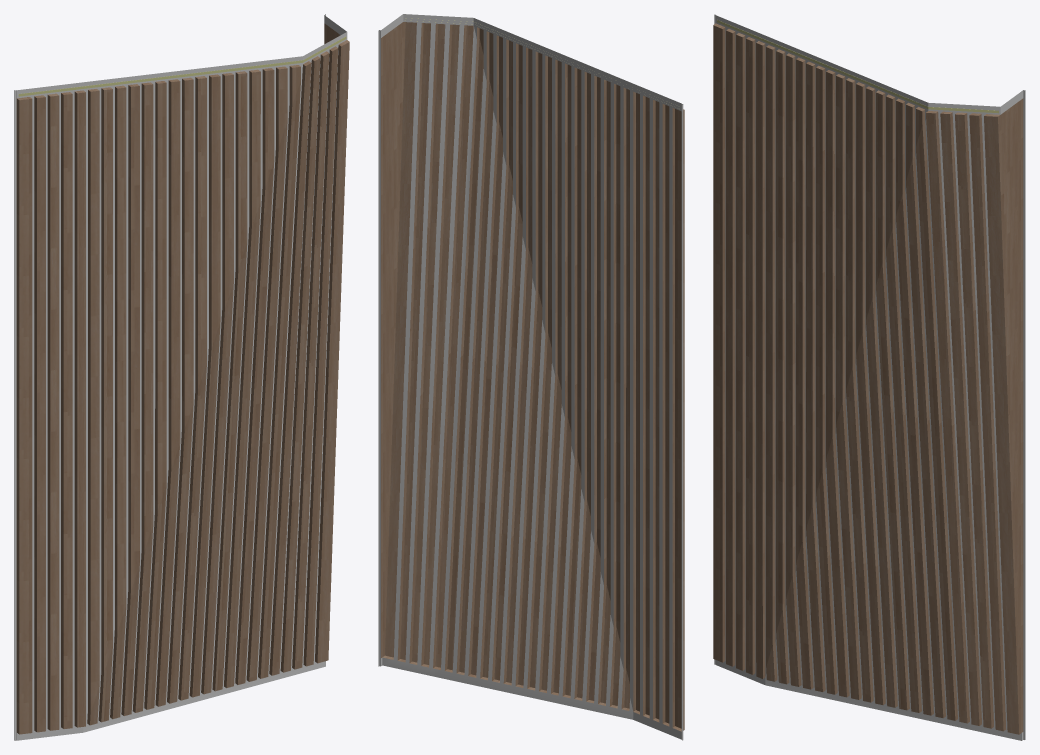
3 renders of one model, left to right at view 1: azimuth 30°, elevation 25°; view 2: azimuth 150°, elevation 25°; view 3: azimuth 330°, elevation 25°, orthographic. The views are drawn at different scales.
Parts seen in each view (by area): view 1: M_W_002_g_4x8; view 2: M_W_002_g_4x8; view 3: M_W_002_g_4x8.
Boxes of the visible parts, left/top/right/bottom form: M_W_002_g_4x8: left=14, top=14, right=349, bottom=740; M_W_002_g_4x8: left=378, top=14, right=684, bottom=740; M_W_002_g_4x8: left=713, top=14, right=1025, bottom=740.
Size of the model in its own units: 4 by 8 by 0.9.
